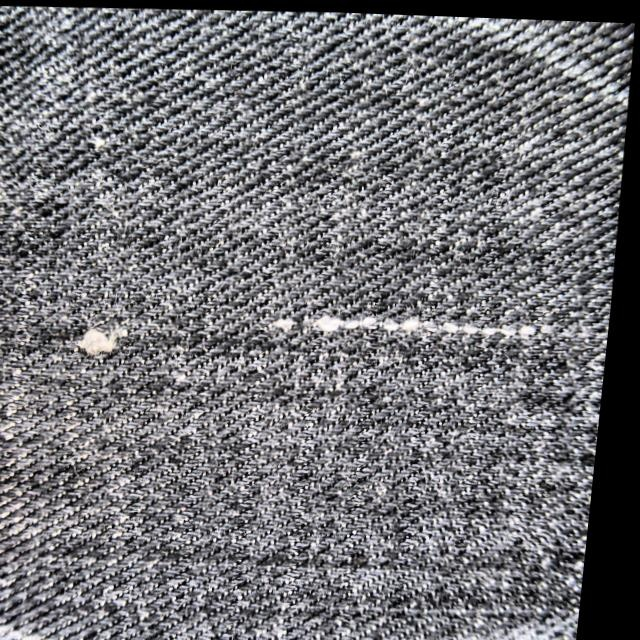Hole: (333, 301, 522, 358), (41, 298, 156, 390), (380, 299, 506, 358)
